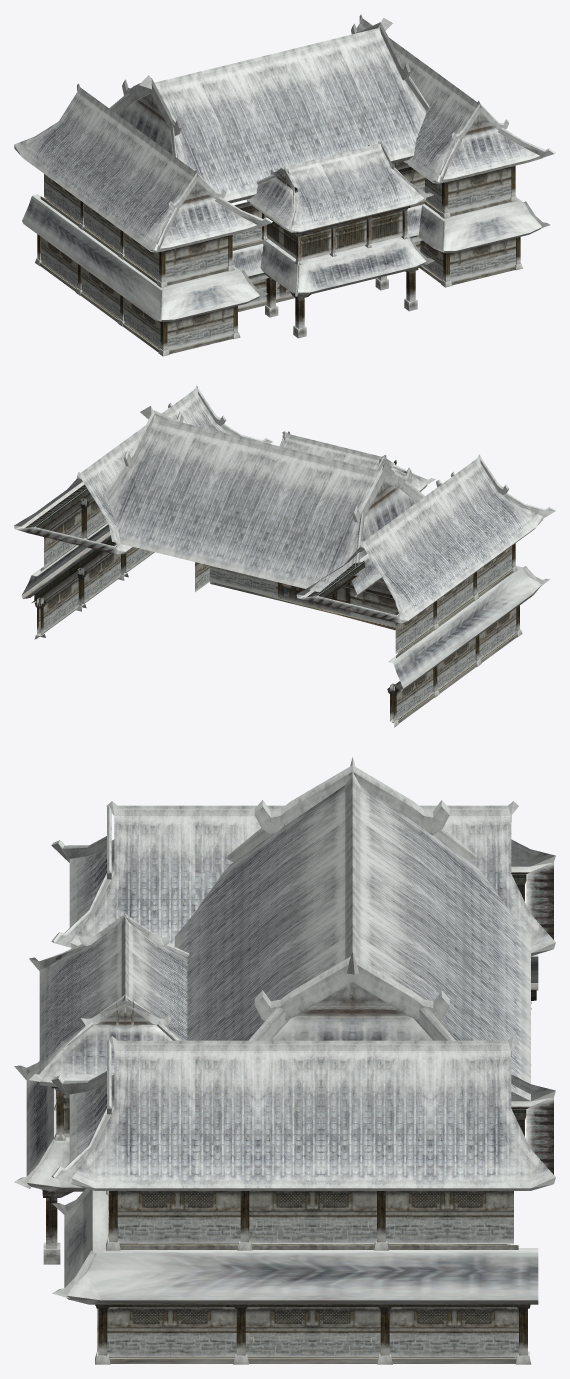
The model's file is snow-006-castle_lod_01.fbx.
3 renders of one model, top to bottom at view 1: azimuth 30°, elevation 25°; view 2: azimuth 150°, elevation 25°; view 3: azimuth 270°, elevation 25°, orthographic. The views are drawn at different scales.
Parts seen in each view (by area): view 1: b1-006-castle-02, b1-006-castle-04, b1-006-castle-01, b1-006-castle-03, b1-006-castle-05; view 2: b1-006-castle-02, b1-006-castle-04, b1-006-castle-01, b1-006-castle-03; view 3: b1-006-castle-02, b1-006-castle-04, b1-006-castle-01, b1-006-castle-03, b1-006-castle-05.
Part boxes in pixels (box(x1,y1,x2,y2)): b1-006-castle-02: box(14, 14, 542, 265); b1-006-castle-04: box(35, 161, 550, 356); b1-006-castle-01: box(22, 194, 541, 321); b1-006-castle-03: box(109, 22, 555, 260); b1-006-castle-05: box(264, 267, 418, 338); b1-006-castle-02: box(14, 385, 542, 623); b1-006-castle-04: box(32, 494, 549, 727); b1-006-castle-01: box(21, 523, 541, 691); b1-006-castle-03: box(104, 388, 555, 567); b1-006-castle-02: box(29, 757, 555, 1190); b1-006-castle-04: box(14, 885, 536, 1364); b1-006-castle-01: box(26, 954, 538, 1304); b1-006-castle-03: box(51, 765, 477, 1182); b1-006-castle-05: box(42, 1189, 73, 1264).
Bounding box in the file's own units: 30.4 × 15.24 × 20.79.
